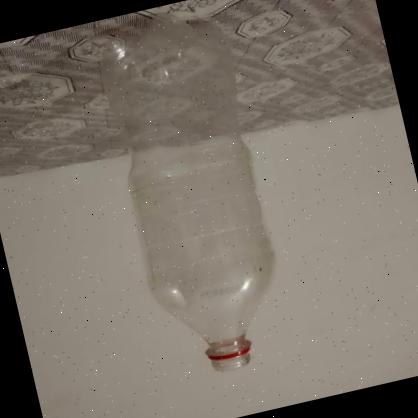bottle: (86, 3, 299, 389)
